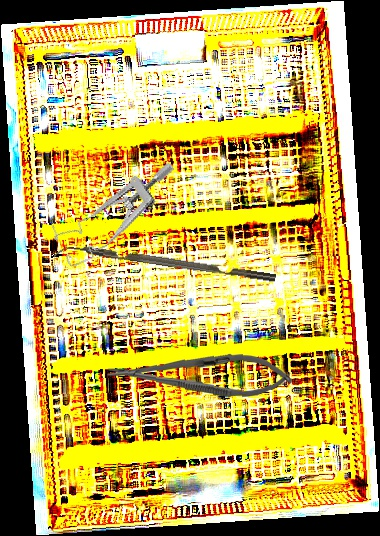Chopper: (53, 239, 277, 293)
Needle Holder: (106, 347, 293, 401)
Speculum: (44, 160, 194, 270)
